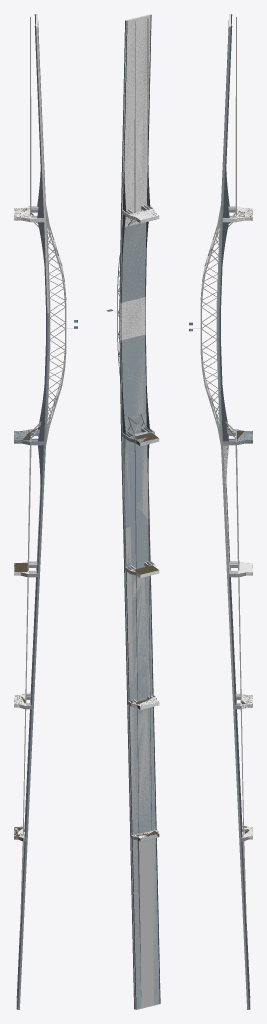
Rendered from Bridge.fbx.
The picture shows the model from 3 angles, left to right: view 1: azimuth 90°, elevation 25°; view 2: azimuth 210°, elevation 25°; view 3: azimuth 270°, elevation 25°; orthographic projection.
Parts seen in each view (by area): view 1: Model; view 2: Model; view 3: Model.
Part boxes in pixels (box(x1,y1,x2,y2)): Model: box(14, 14, 77, 1009); Model: box(106, 14, 160, 1009); Model: box(189, 14, 252, 1009).
Bounding box in the file's own units: 3210 × 117662 × 6925.
